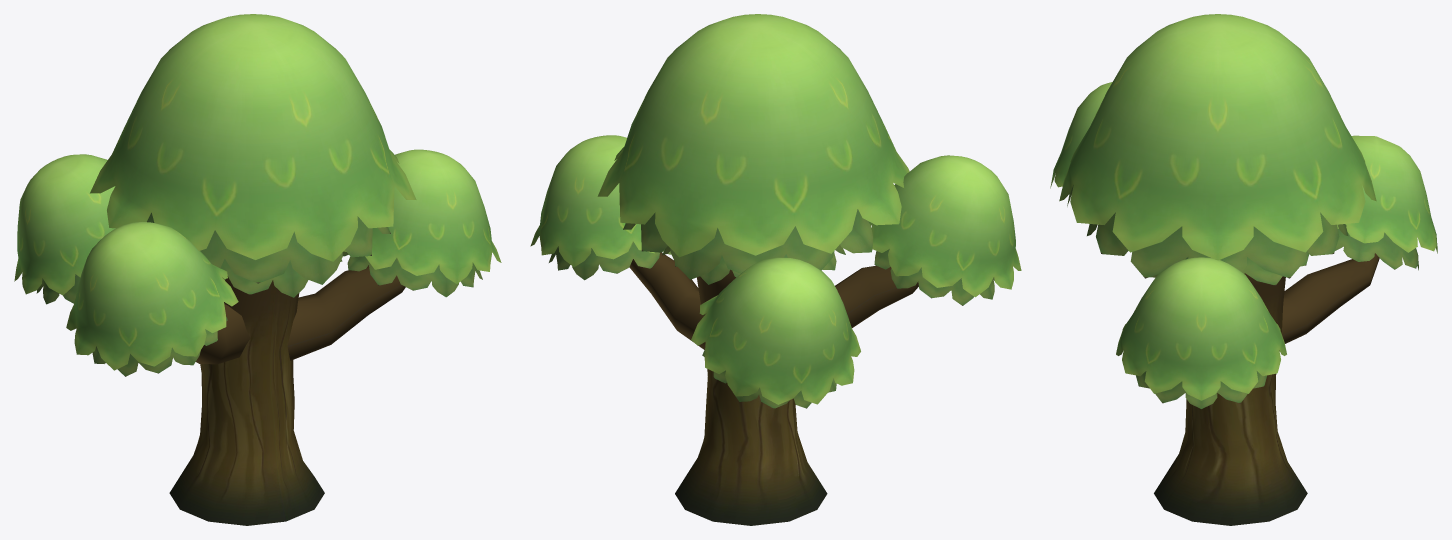
Rendered from stylized-tree-6ba26d.glb.
3 renders of one model, left to right at view 1: azimuth 30°, elevation 25°; view 2: azimuth 150°, elevation 25°; view 3: azimuth 270°, elevation 25°, orthographic.
Parts seen in each view (by area): view 1: Tree base_Material.001_0; view 2: Tree base_Material.001_0; view 3: Tree base_Material.001_0.
Part boxes in pixels (left/top/right/bottom): Tree base_Material.001_0: left=14, top=14, right=501, bottom=525; Tree base_Material.001_0: left=530, top=14, right=1021, bottom=525; Tree base_Material.001_0: left=1050, top=14, right=1437, bottom=525.
Bounding box in the file's own units: 926 × 936 × 703.
1 material, 1 textured.
